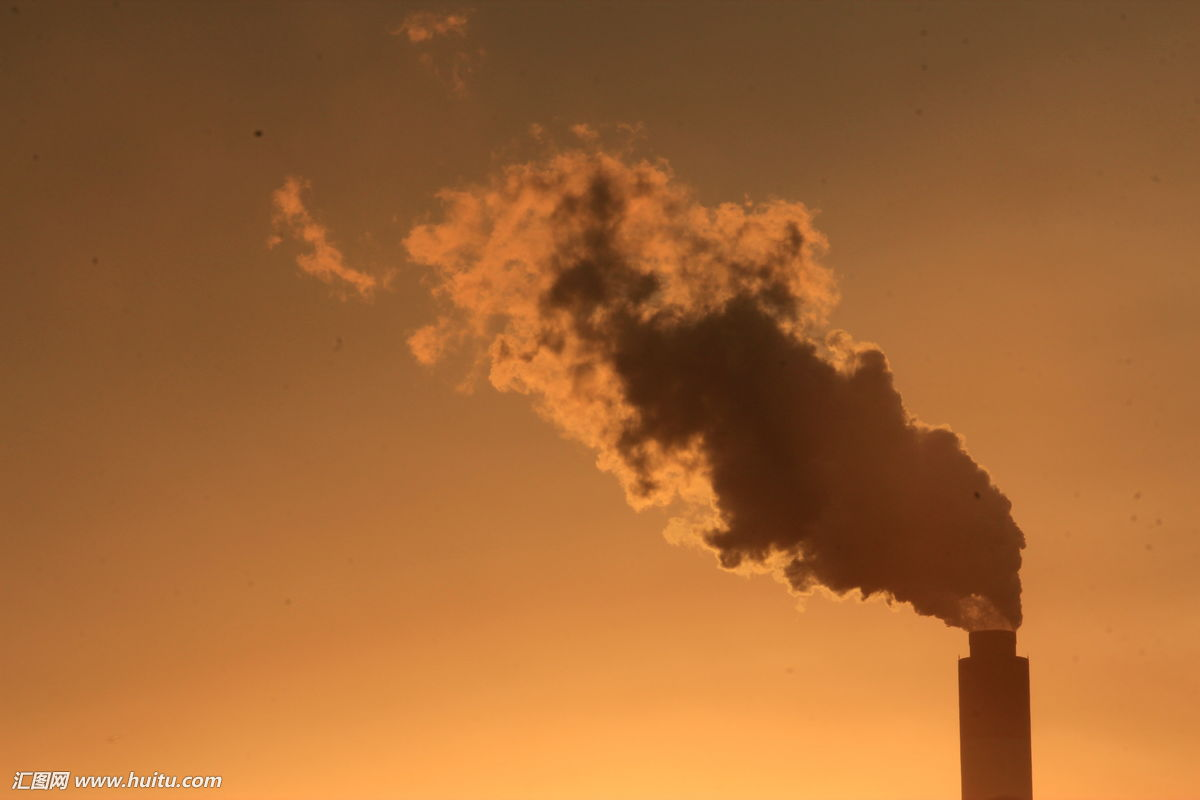dust: (558, 306, 1030, 649)
